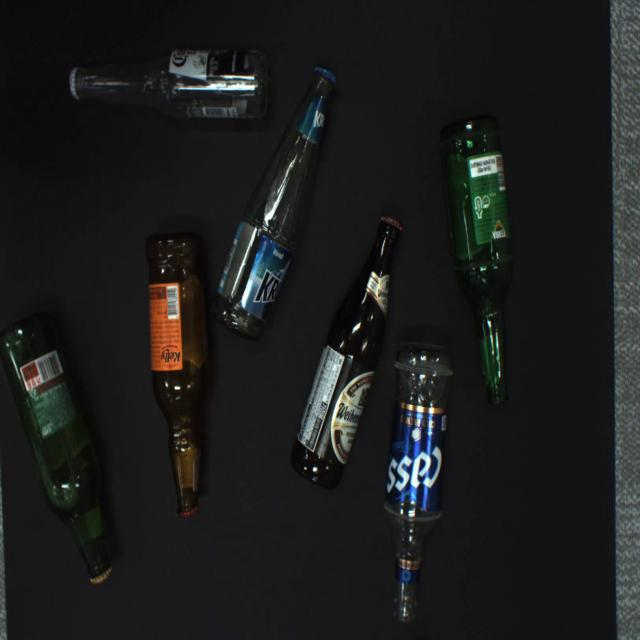beer-bottle: (212, 67, 337, 343), (0, 312, 113, 586), (290, 217, 403, 489), (439, 113, 514, 405), (383, 341, 454, 622), (145, 233, 213, 518), (69, 49, 270, 119)
